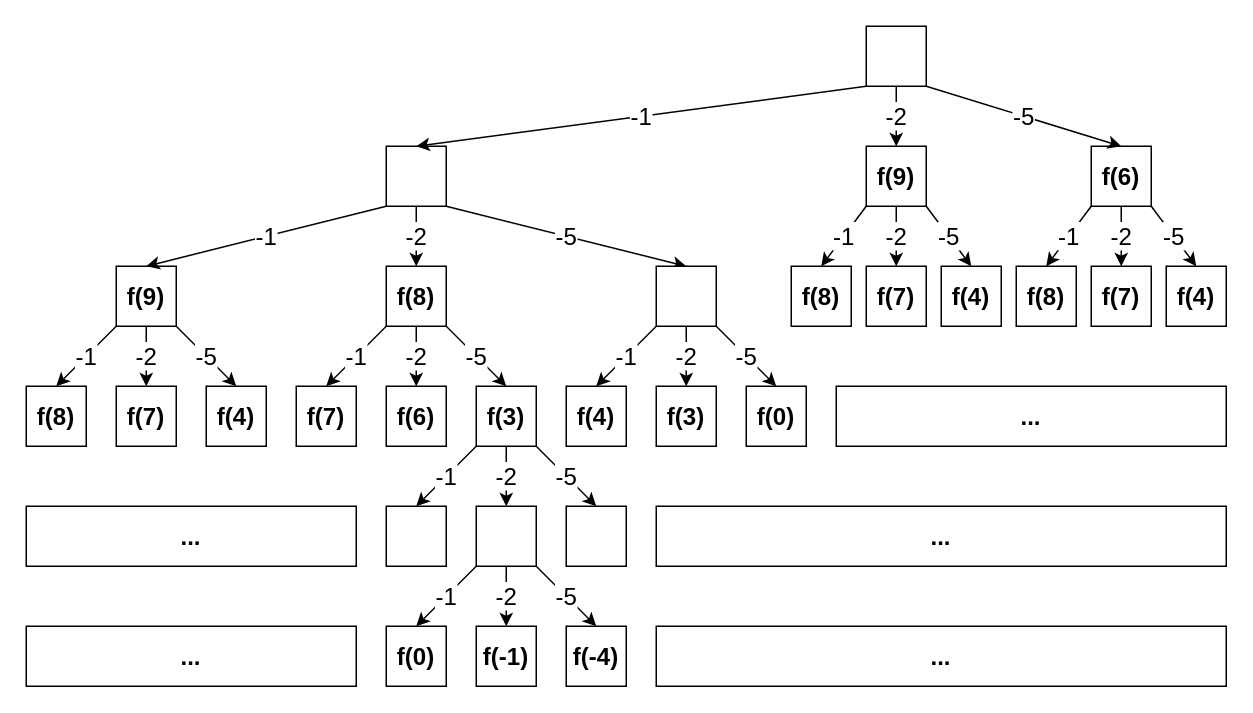
This 1253x713 diagram has some shape labels left out. The shapes that lost their labels are listed below. From the top down, each one's centre as x and y in pixels, then its label:
[895,55]: f(11)
[415,175]: f(10)
[685,295]: f(5)
[415,535]: f(2)
[505,535]: f(1)
[595,535]: f(-2)
